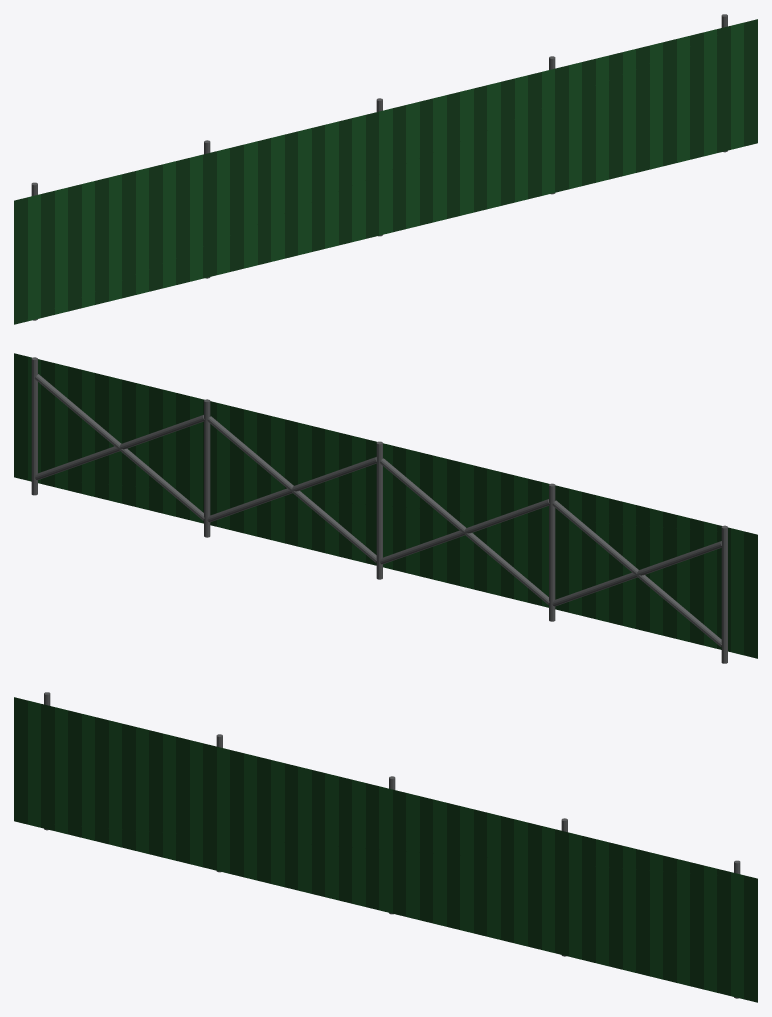
Rendered from Baricade.gltf.
3 renders of one model, top to bottom at view 1: azimuth 30°, elevation 25°; view 2: azimuth 150°, elevation 25°; view 3: azimuth 330°, elevation 25°, orthographic.
Visible parts, largest first — view 1: cube; view 2: cube, cylinder (×13); view 3: cube.
Part boxes in pixels (bbox=[...]): cube: bbox=[14, 19, 757, 324]; cube: bbox=[14, 353, 757, 658]; cylinder (×13): bbox=[31, 357, 727, 663]; cube: bbox=[14, 697, 757, 1002].
Size of the model in its own units: 0.8625 by 0.15 by 0.0157.
2 materials, 2 textured.
